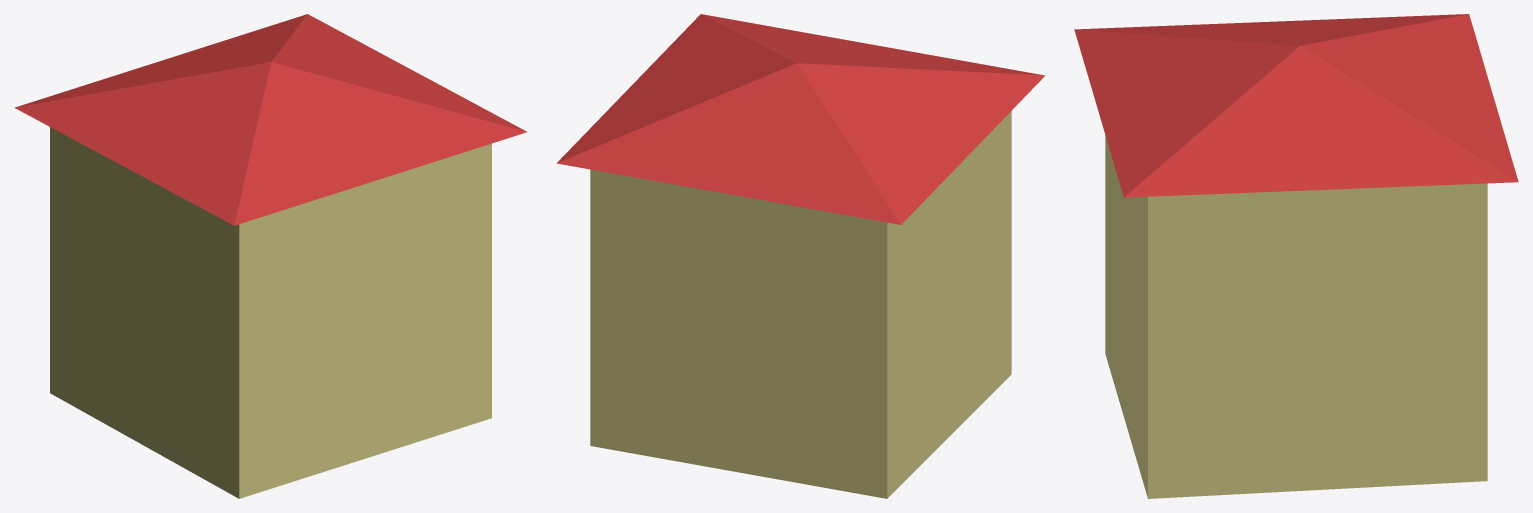
3 views of the same model, side by side, from view 1: azimuth 30°, elevation 25°; view 2: azimuth 150°, elevation 25°; view 3: azimuth 270°, elevation 25° (orthographic). The views are drawn at different scales.
Bounding box in the file's own units: 12.03 × 11.95 × 11.07.
